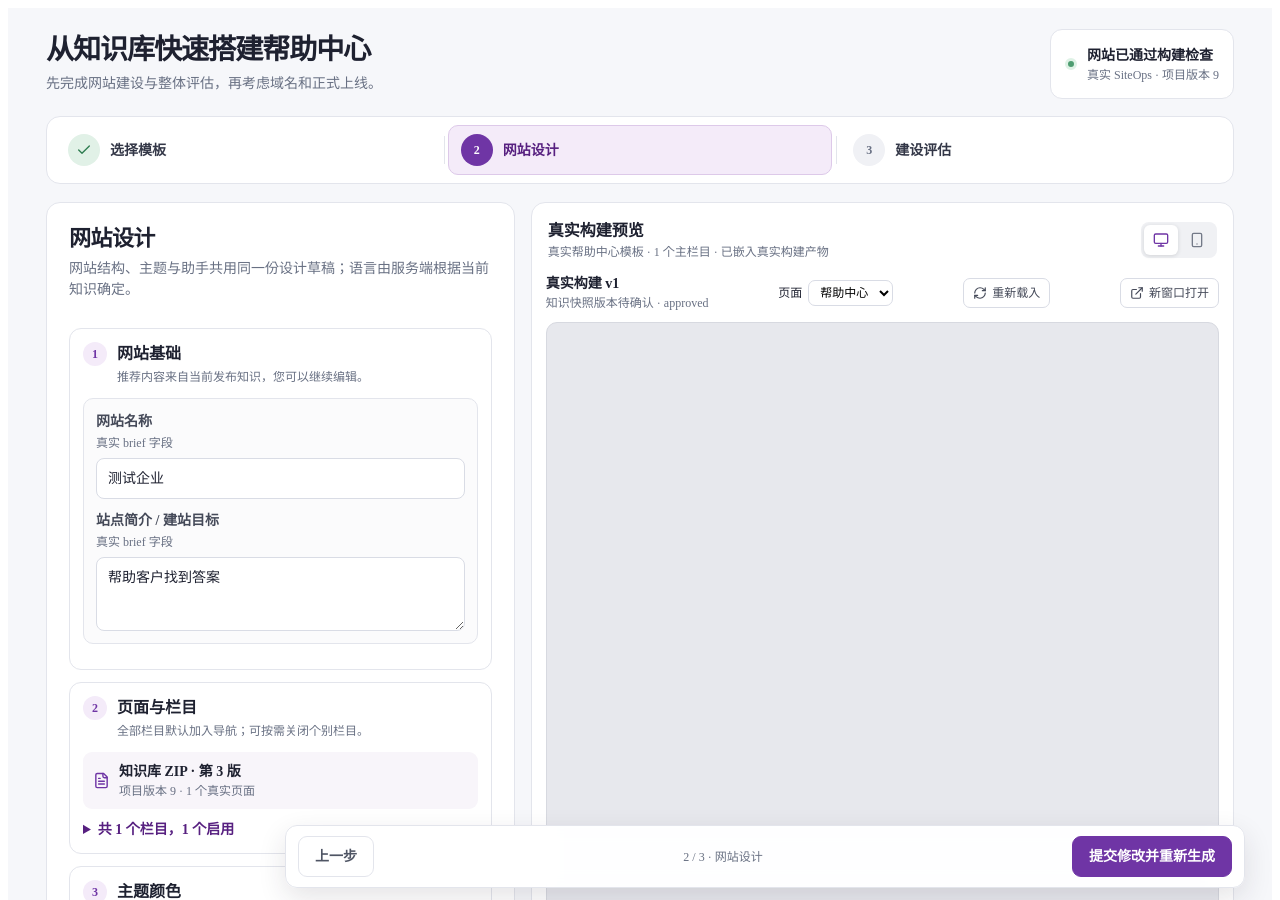
Test case: redesigned live website builder setup › does not advance or complete an older revision when the design changes while submission is pending
// 只有存在未保存的编辑时才会提交改版；真实试聊门禁在生成前不再拦截。
Replace the text in the field labelled "网站名称" with "改版提交前的名称调整" at (280, 478), box [96, 458, 465, 499]
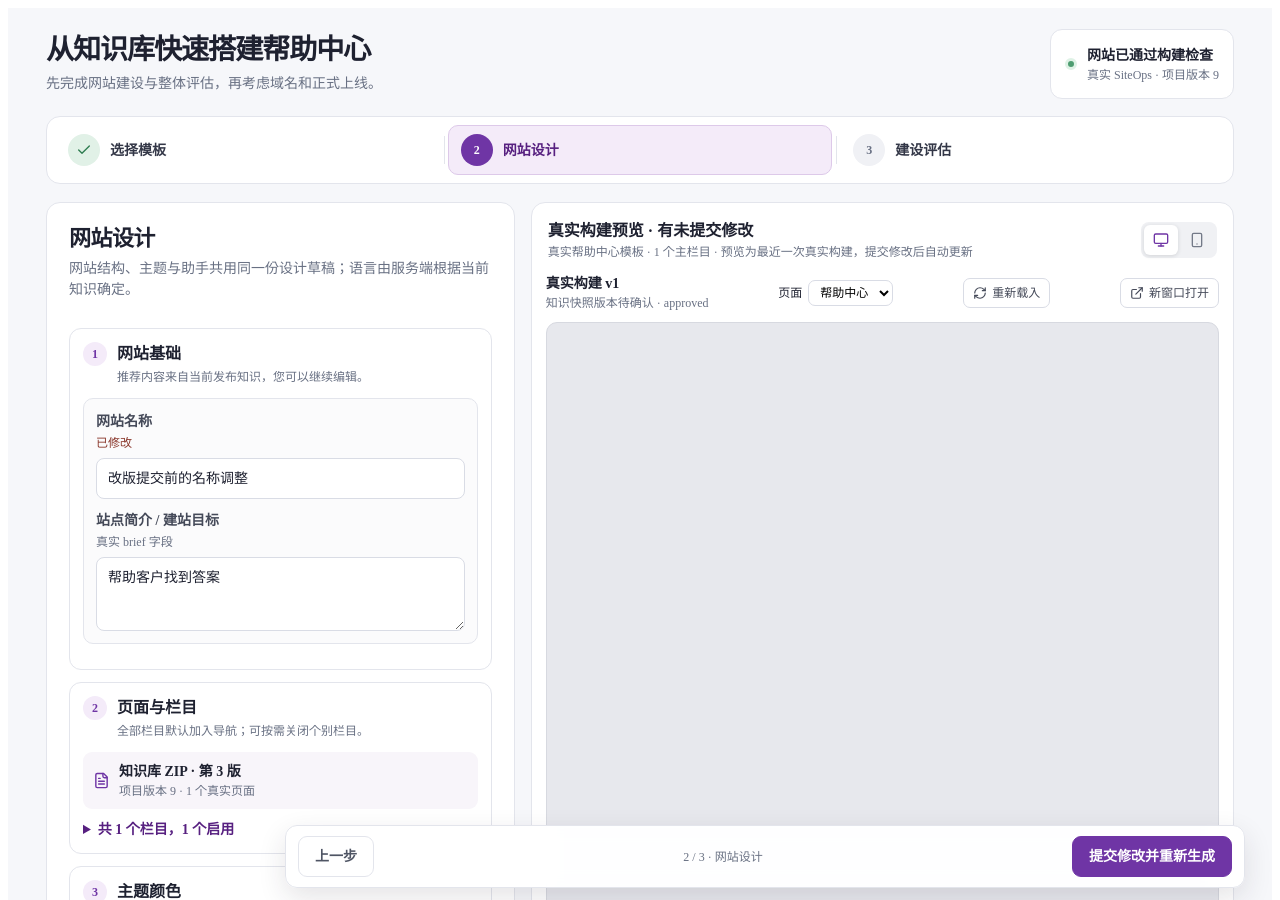
Click the button with test id "website-revision-submit" at (1152, 856), box [1072, 836, 1232, 877]
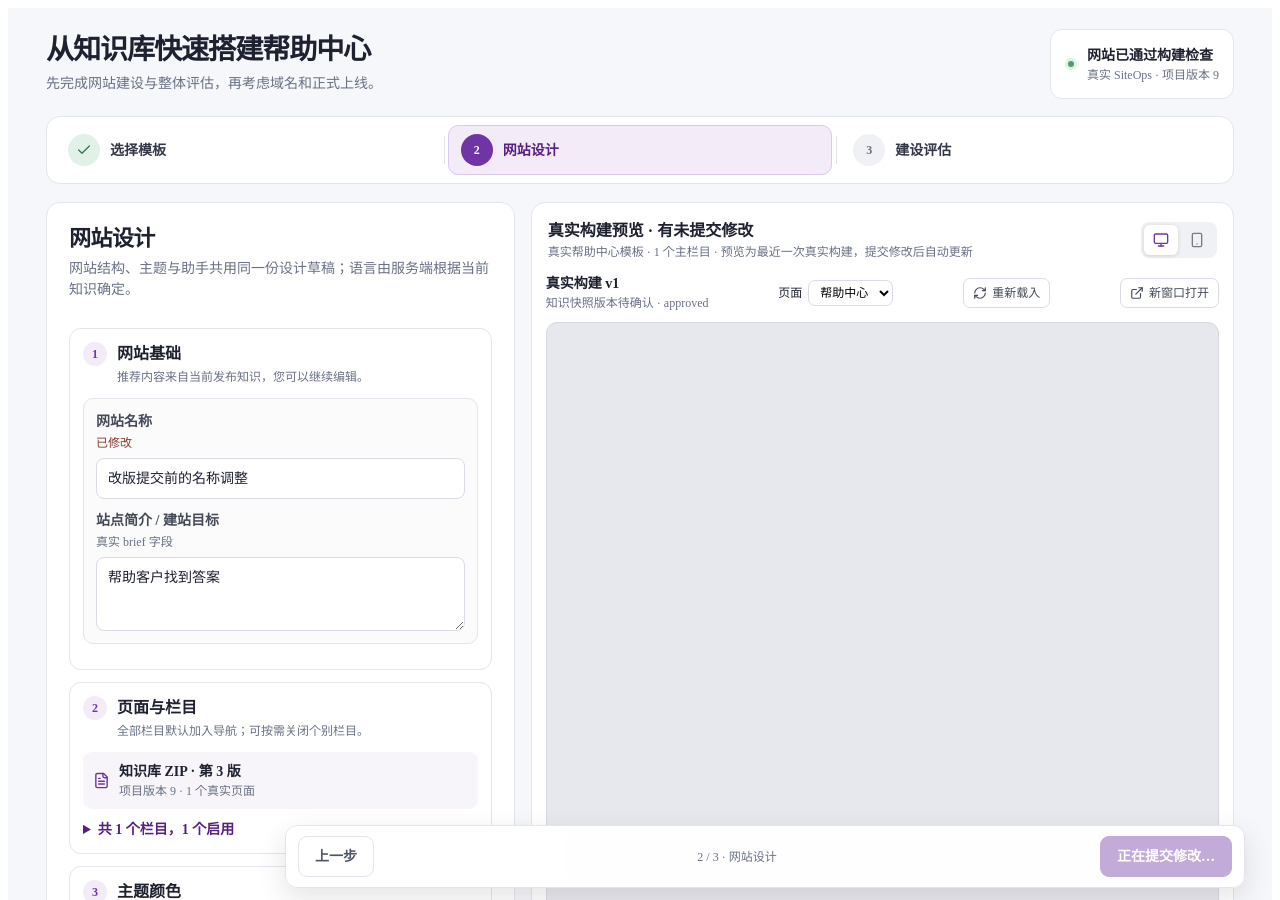
Replace the text in the text box labelled "站点简介 / 建站目标" with "改版提交期间继续编辑的新目标" at (280, 594), box [96, 557, 465, 631]
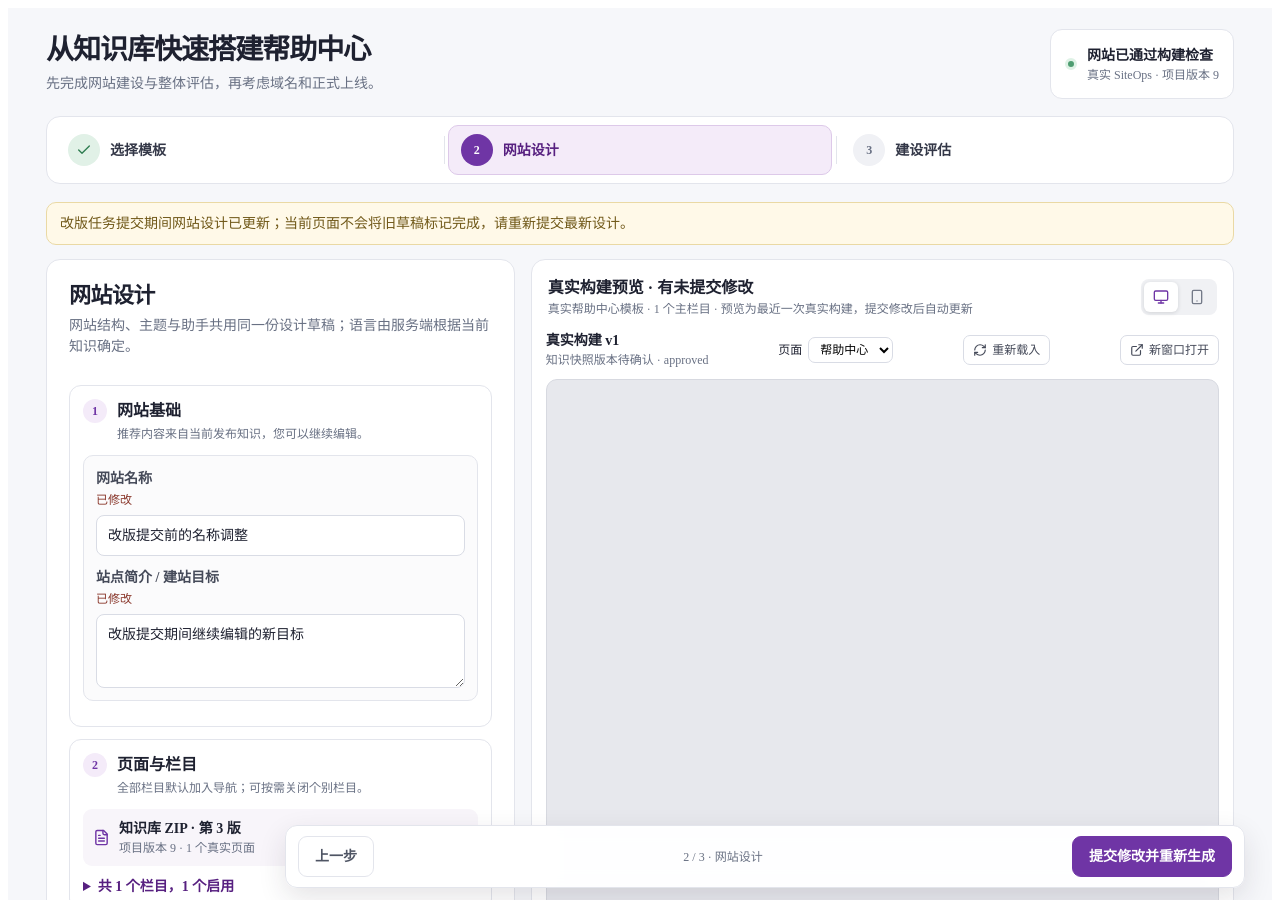
expect the heading "网站设计" is shown: met, box [69, 284, 155, 308]
expect the text "改版任务提交期间网站设计已更新；当前页面不会将旧草稿标记完成，请重新提交最新设计。" is shown: met, box [46, 202, 1234, 246]
